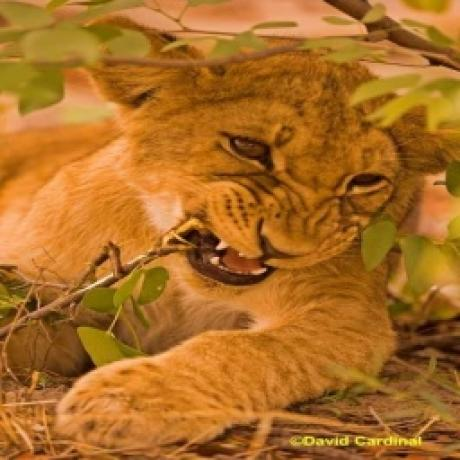Lion: (26, 10, 447, 460)
